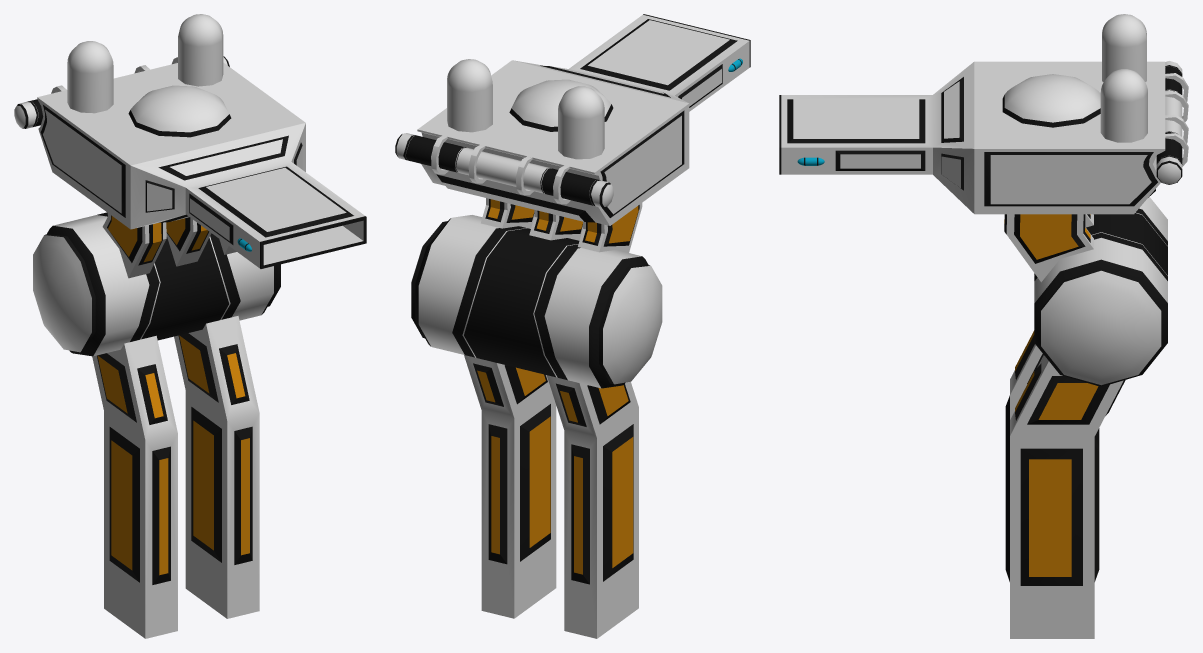
The model's file is tower_slow_asset.fbx.
3 views of the same model, side by side, from view 1: azimuth 30°, elevation 25°; view 2: azimuth 150°, elevation 25°; view 3: azimuth 270°, elevation 25° (orthographic). The views are drawn at different scales.
Visible parts, largest first — view 1: tower_bottom, tower_gun; view 2: tower_bottom, tower_gun; view 3: tower_gun, tower_bottom.
Boxes of the visible parts, bbox=[...] form: tower_bottom: bbox=[33, 212, 280, 638]; tower_gun: bbox=[14, 14, 366, 278]; tower_bottom: bbox=[411, 215, 662, 638]; tower_gun: bbox=[395, 14, 750, 252]; tower_gun: bbox=[779, 14, 1188, 282]; tower_bottom: bbox=[1005, 197, 1167, 638].
Bounding box in the file's own units: 101 × 245 × 160.
